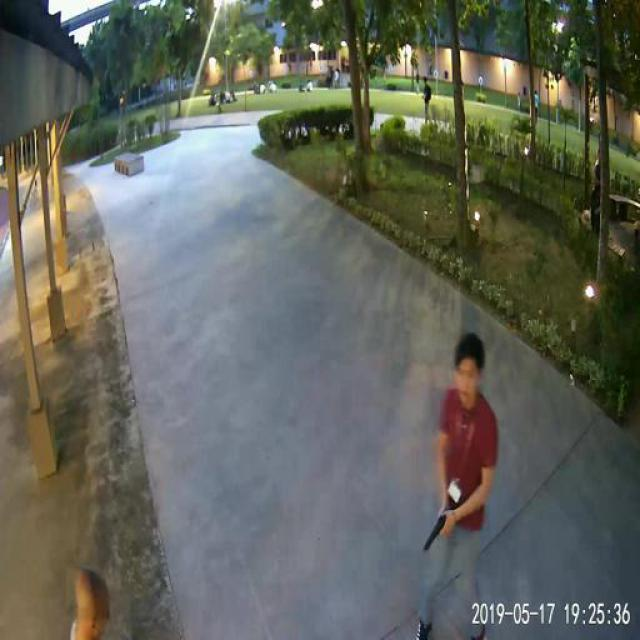Gun: (422, 508, 450, 548)
